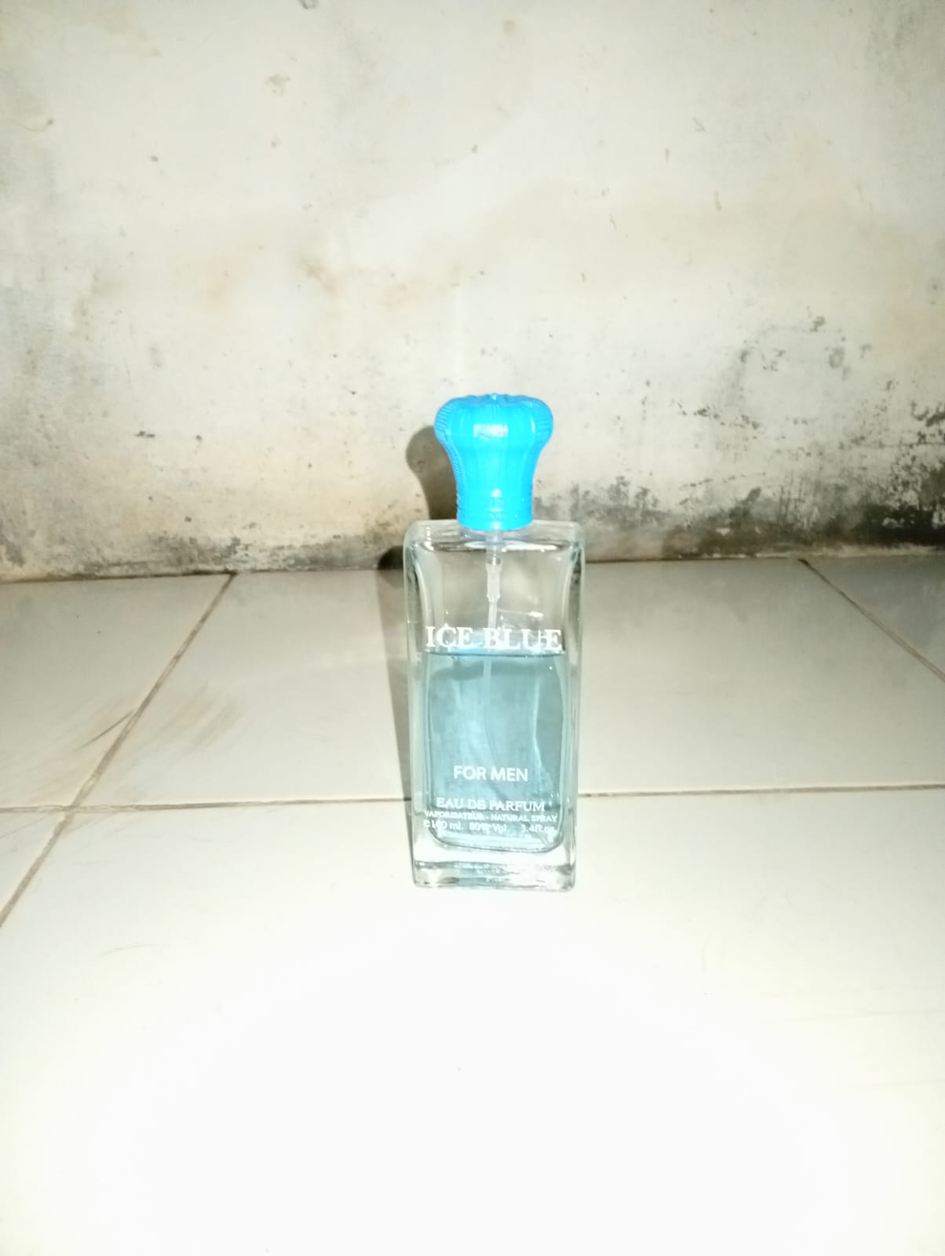Parfum: (343, 386, 639, 905)
